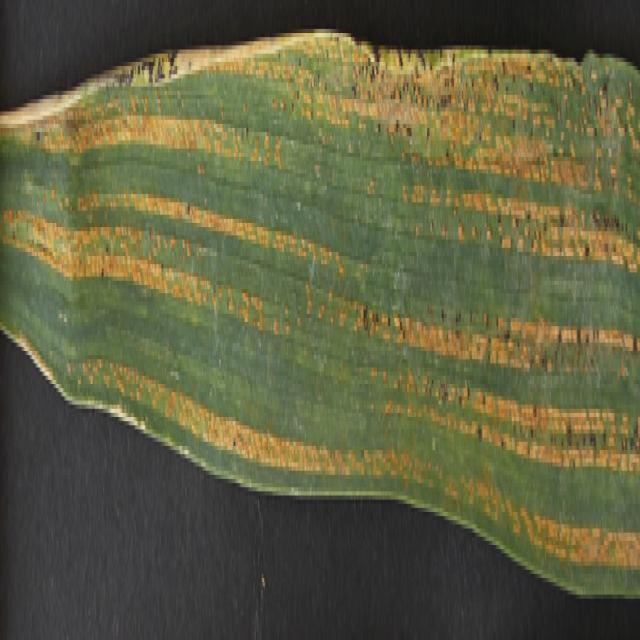leaf rust: (2, 37, 639, 599)
